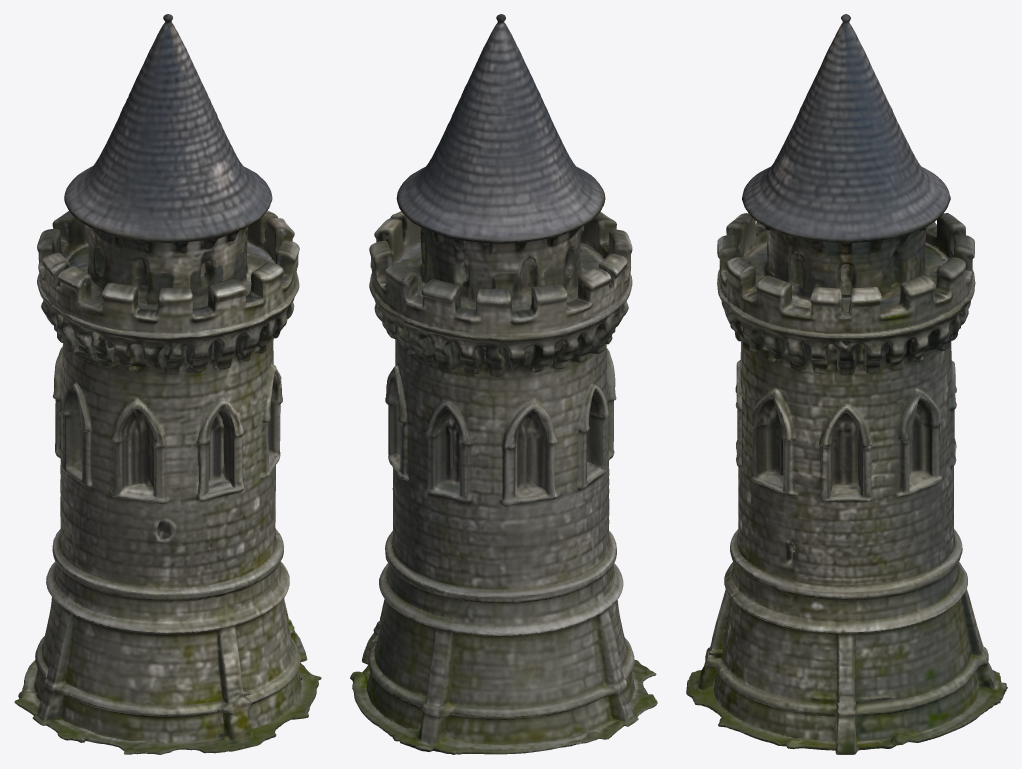
3 views of the same model, side by side, from view 1: azimuth 30°, elevation 25°; view 2: azimuth 150°, elevation 25°; view 3: azimuth 270°, elevation 25° (orthographic).
Visible parts, largest first — view 1: geometry_0; view 2: geometry_0; view 3: geometry_0.
Part boxes in pixels (left/top/right/bottom): geometry_0: left=14, top=14, right=321, bottom=754; geometry_0: left=350, top=14, right=657, bottom=754; geometry_0: left=686, top=14, right=1007, bottom=754.
Size of the model in its own units: 7.41 by 18 by 7.76.
Materials: 1 (1 with a texture image).
